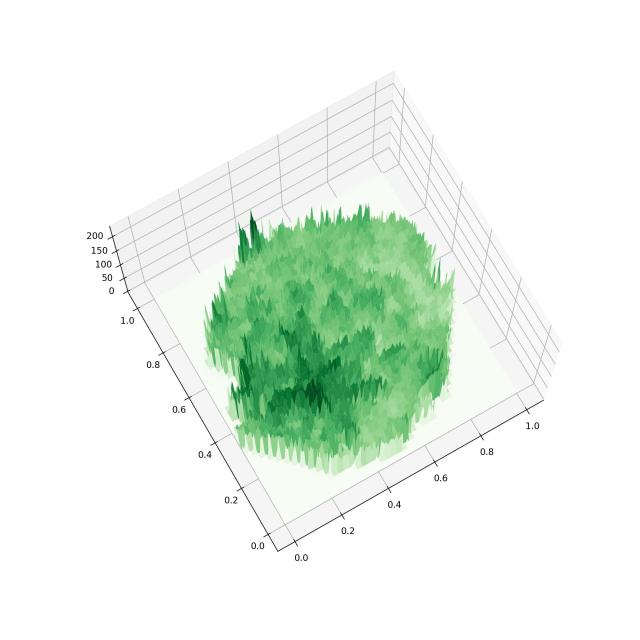spruce: (61, 38, 598, 572)
